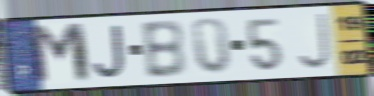0: (190, 16, 233, 78)
5: (243, 15, 286, 72)
B: (138, 18, 189, 80)
J: (294, 12, 332, 72), (91, 23, 128, 81)
M: (28, 21, 94, 87)
